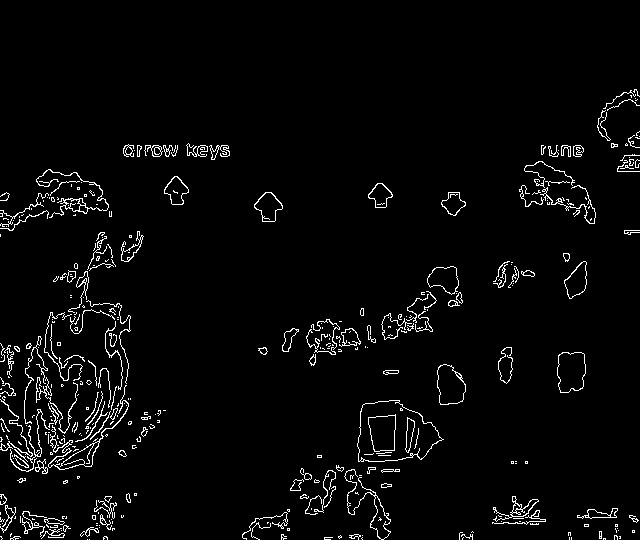rune_box: (114, 150, 531, 250)
